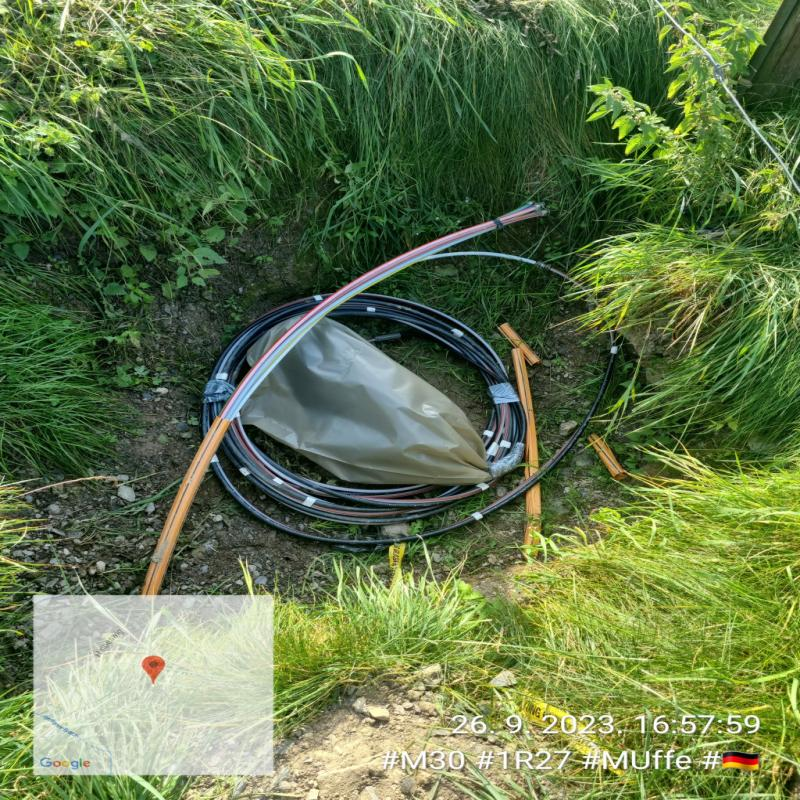NT-Gehause: (246, 311, 490, 485)
NT-Muffen: (232, 315, 496, 485)
